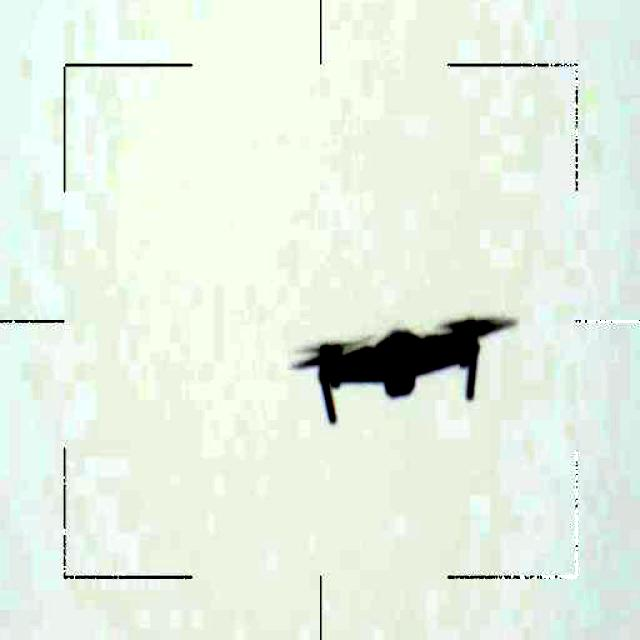bird: (279, 315, 515, 425)
